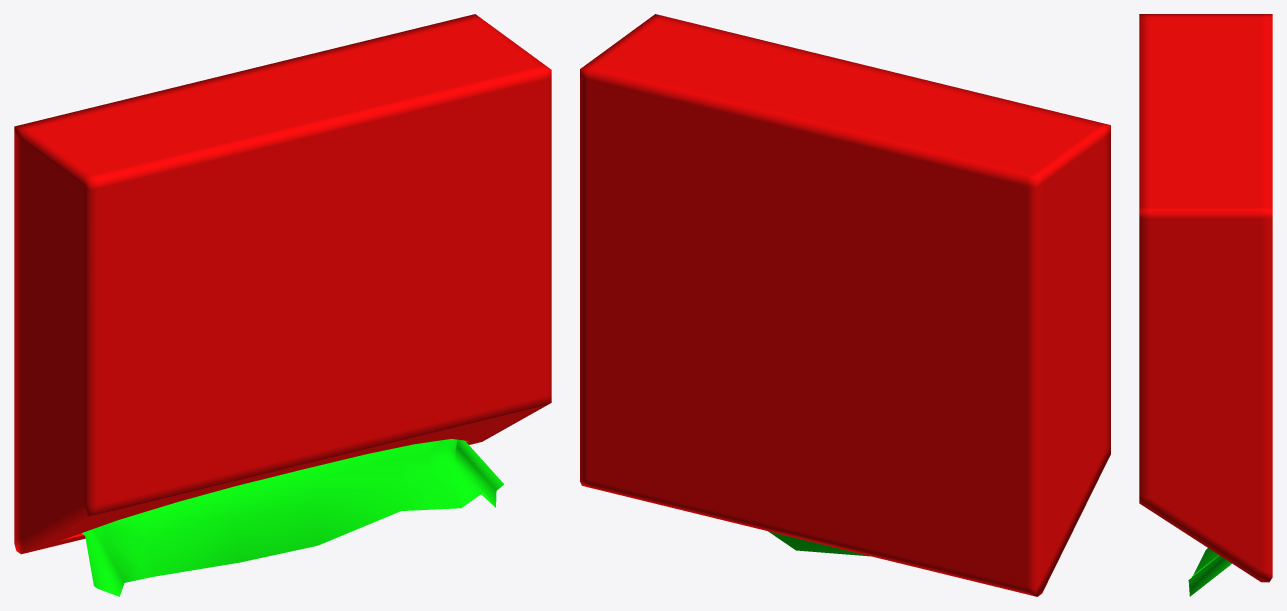
Rendered from Paper Towel Dispensor.FBX.
The picture shows the model from 3 angles, left to right: view 1: azimuth 30°, elevation 25°; view 2: azimuth 150°, elevation 25°; view 3: azimuth 270°, elevation 25°; orthographic projection. The views are drawn at different scales.
Parts seen in each view (by area): view 1: Paper Towel Dispensor; view 2: Paper Towel Dispensor; view 3: Paper Towel Dispensor.
Boxes of the visible parts, bbox=[...] form: Paper Towel Dispensor: bbox=[14, 14, 551, 596]; Paper Towel Dispensor: bbox=[580, 14, 1110, 596]; Paper Towel Dispensor: bbox=[1139, 14, 1272, 596].
Size of the model in its own units: 17.17 by 16.5 by 4.91.
